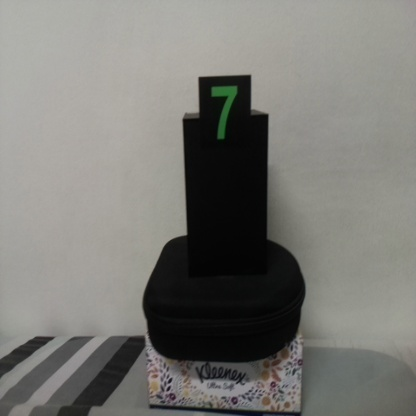id_7: (198, 77, 251, 154)
